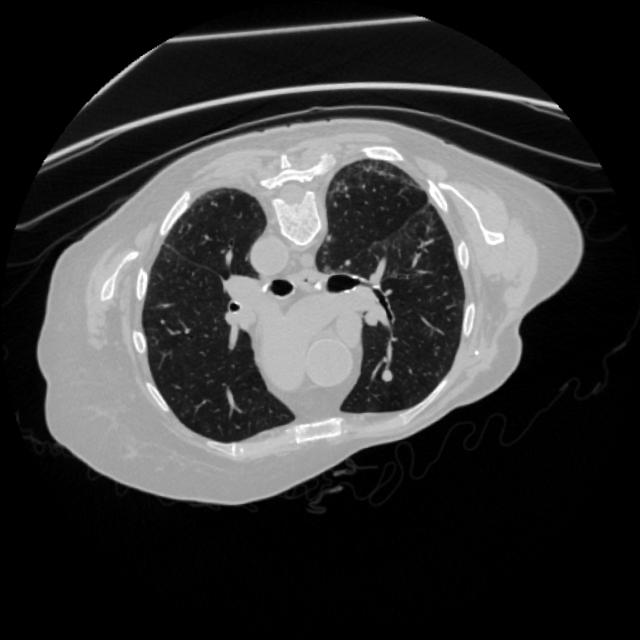nodule: (372, 362, 402, 392)
